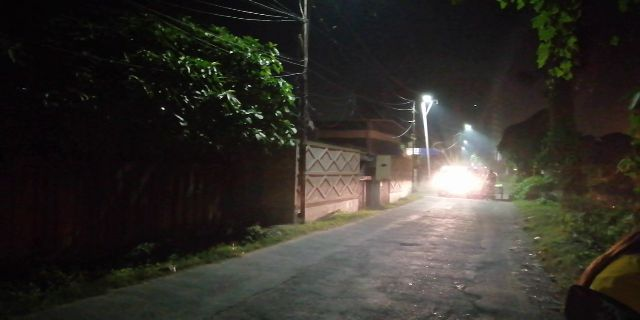Car: (435, 162, 478, 201)
